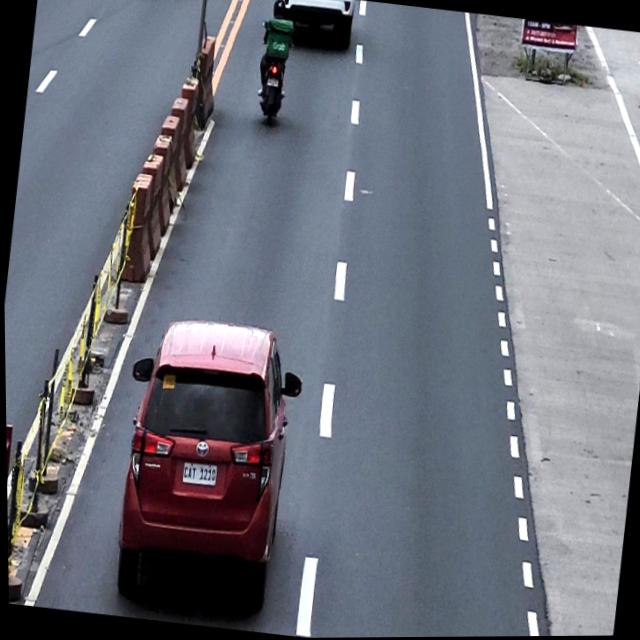Car: (103, 310, 310, 615), (268, 0, 356, 48)
License-Plate: (179, 458, 217, 487), (265, 77, 279, 88)
Motorcycle: (250, 16, 296, 125)
